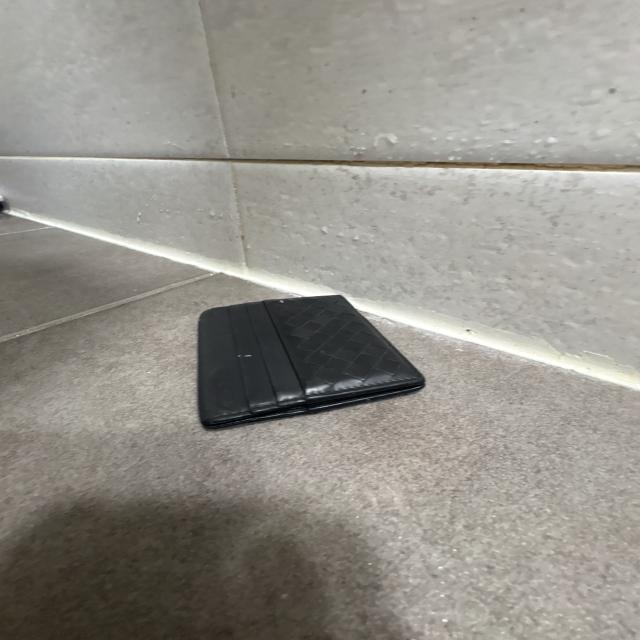wallet: (197, 290, 424, 432)
